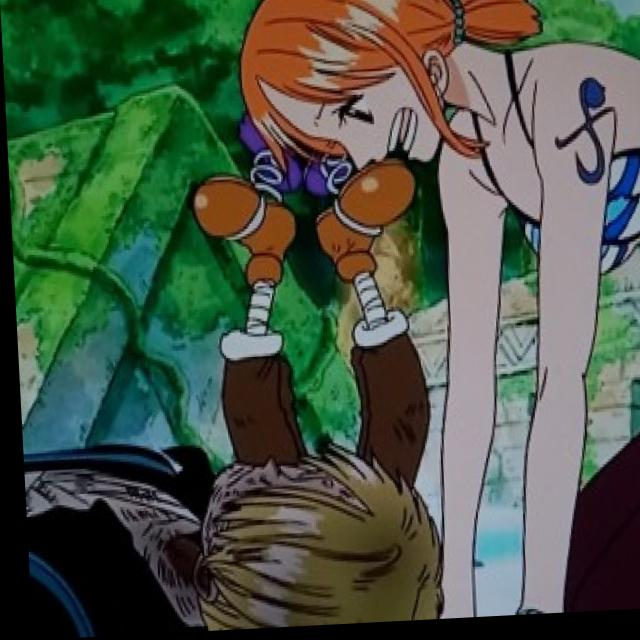Nami: (231, 0, 511, 190)
Sangdi: (178, 423, 446, 633)
